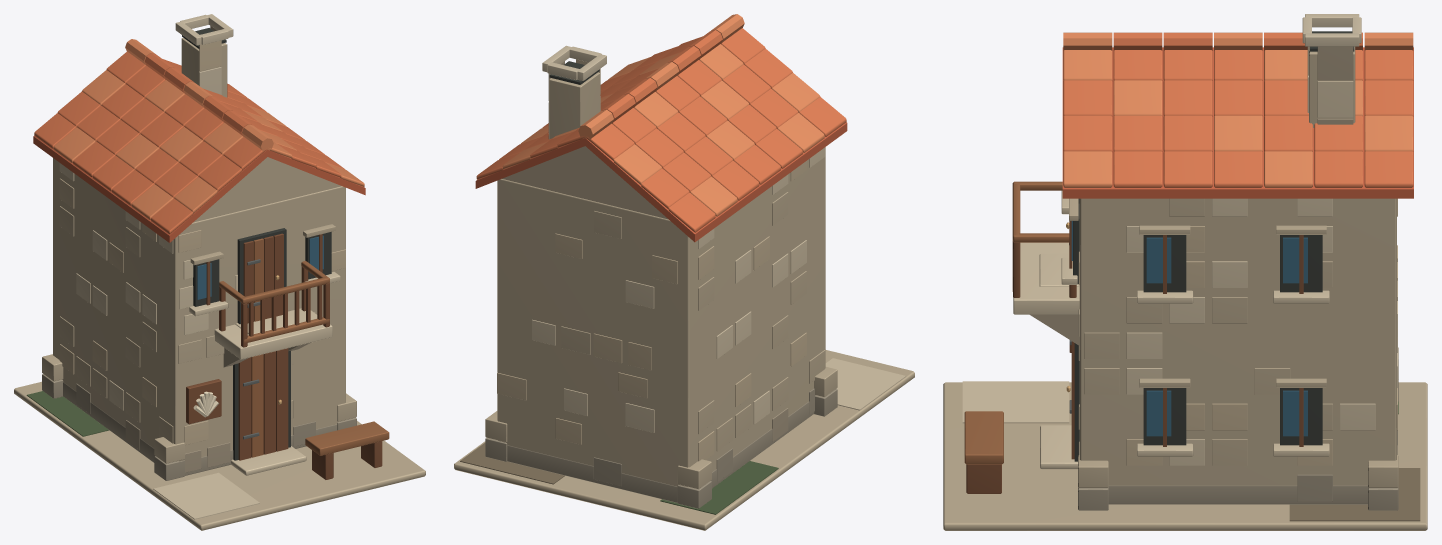
File: inn.glb
3 views of the same model, side by side, from view 1: azimuth 30°, elevation 25°; view 2: azimuth 150°, elevation 25°; view 3: azimuth 270°, elevation 25° (orthographic). The views are drawn at different scales.
Parts seen in each view (by area): view 1: inn; view 2: inn; view 3: inn.
Part boxes in pixels (left/top/right/bottom): inn: left=14, top=14, right=425, bottom=530; inn: left=454, top=14, right=914, bottom=530; inn: left=943, top=14, right=1427, bottom=530.
Bounding box in the file's own units: 1.97 × 2.99 × 2.84.
